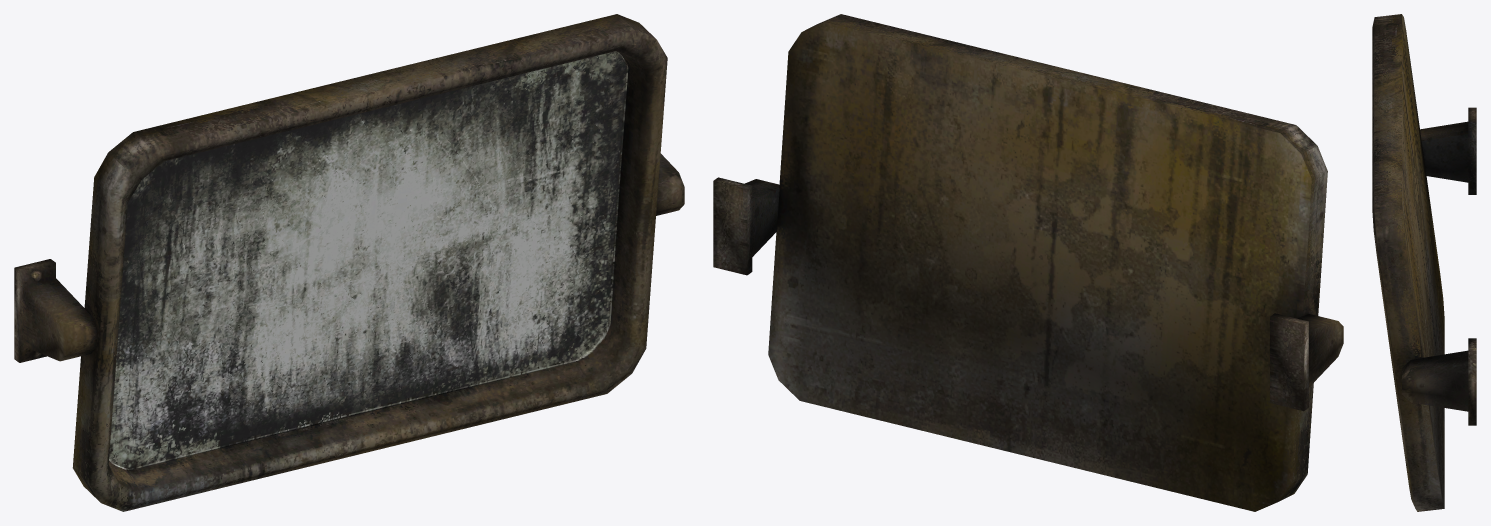
The model's file is bathRoom27.FBX.
3 renders of one model, left to right at view 1: azimuth 30°, elevation 25°; view 2: azimuth 150°, elevation 25°; view 3: azimuth 270°, elevation 25°, orthographic. The views are drawn at different scales.
Parts seen in each view (by area): view 1: SM_Bathroom27; view 2: SM_Bathroom27; view 3: SM_Bathroom27.
Boxes of the visible parts, left/top/right/bottom form: SM_Bathroom27: left=14, top=14, right=684, bottom=511; SM_Bathroom27: left=713, top=14, right=1343, bottom=511; SM_Bathroom27: left=1372, top=14, right=1476, bottom=511.
Bounding box in the file's own units: 82.2 × 48.41 × 14.81.
Materials: 1 (1 with a texture image).
